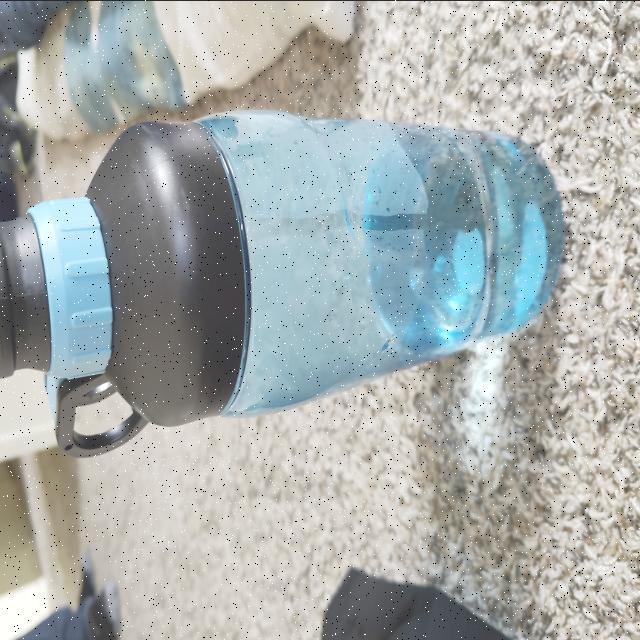bottle: (0, 116, 558, 443)
